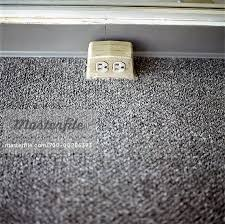outlet: (113, 61, 127, 73), (96, 62, 108, 71)
